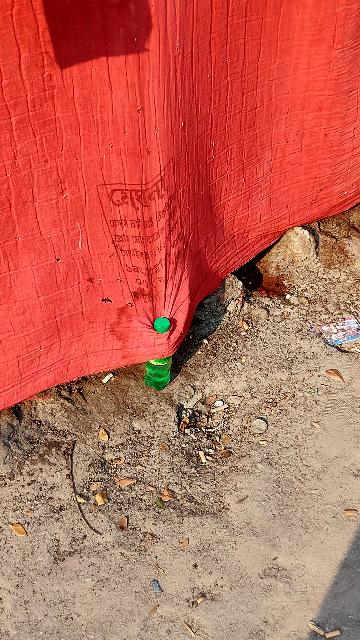bottle: (141, 306, 191, 403)
